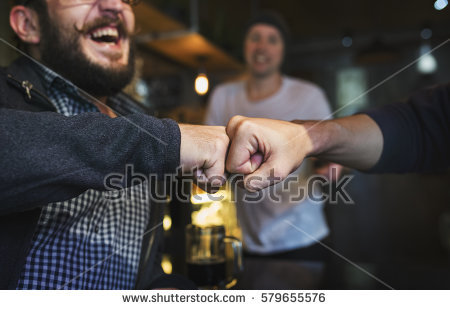fist: (228, 105, 299, 195), (183, 108, 233, 183)
